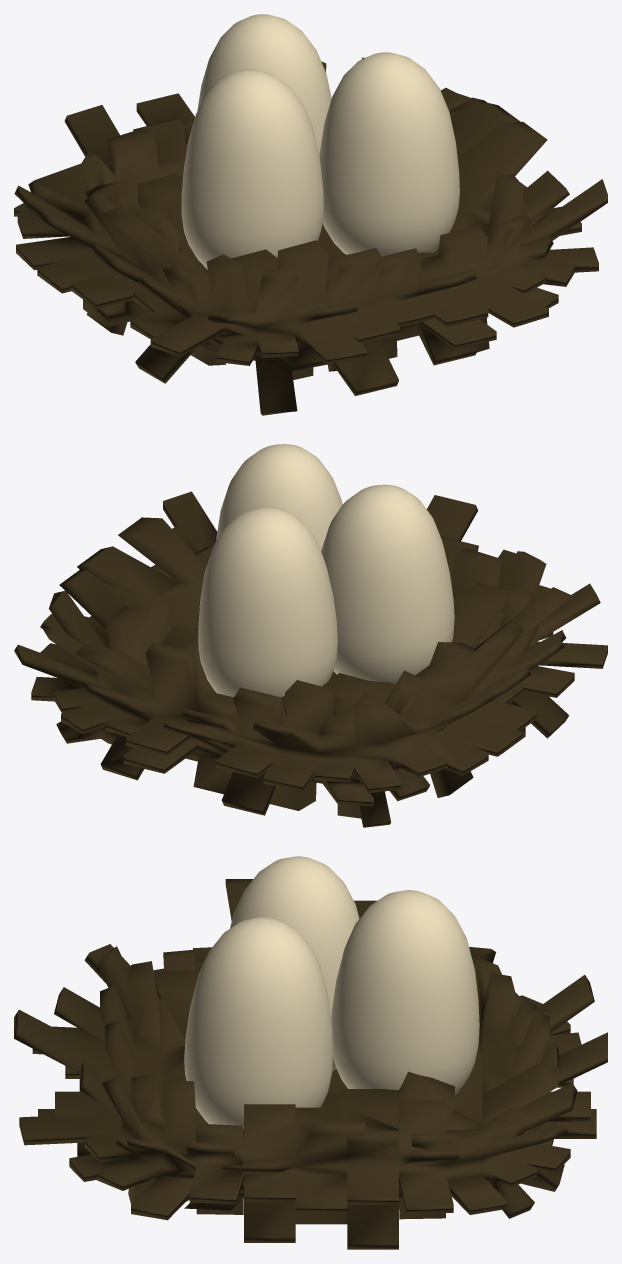
The model's file is NEST_not_joined.fbx.
The picture shows the model from 3 angles, top to bottom: view 1: azimuth 30°, elevation 25°; view 2: azimuth 150°, elevation 25°; view 3: azimuth 270°, elevation 25°; orthographic projection. The views are drawn at different scales.
Visible parts, largest first — view 1: nest, Sphere; view 2: nest, Sphere; view 3: nest, Sphere.
Part boxes in pixels (x1,y1,x2,y2): nest: (14, 57, 607, 415); Sphere: (181, 14, 459, 269); nest: (14, 491, 607, 827); Sphere: (198, 444, 454, 697); nest: (14, 879, 607, 1249); Sphere: (184, 856, 479, 1129).
Size of the model in its own units: 1.61 by 0.877 by 1.7.
